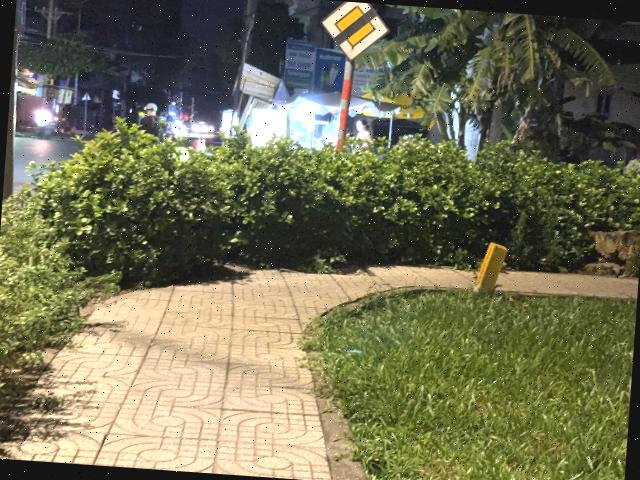het-duong-uu-tien: (317, 0, 391, 63)
